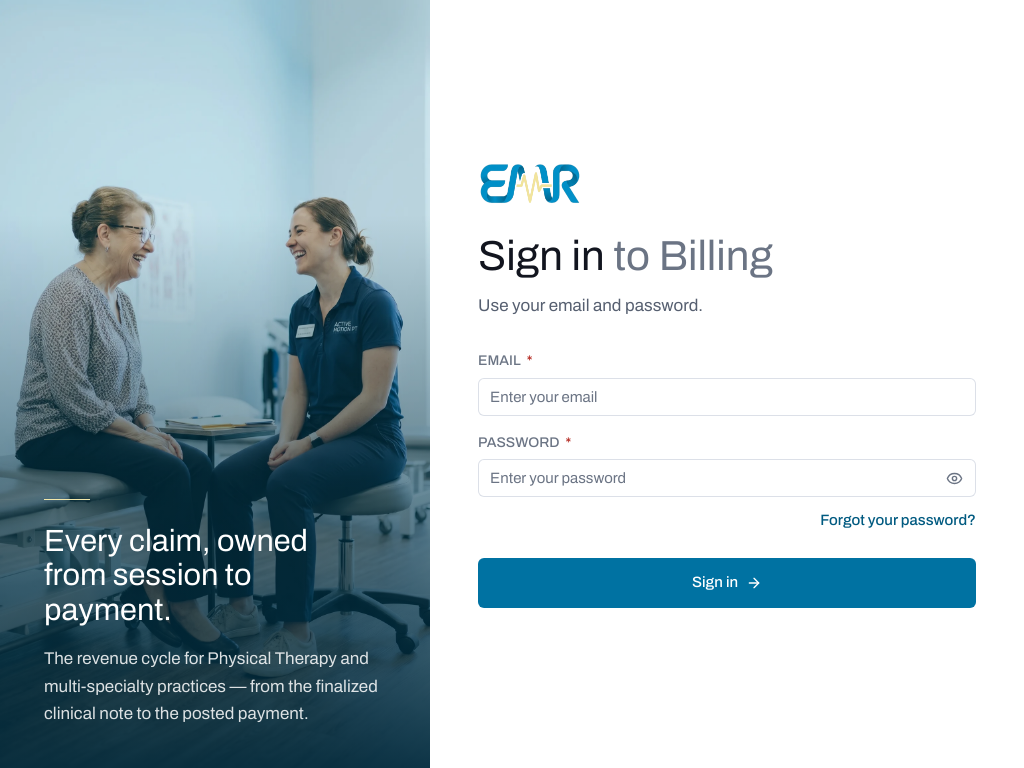
Test: sign-in page › says the credentials are wrong without saying which one, and clears only the password
Check: the heading "Sign in to Billing" is shown, box 478,233 -> 773,279
Type "d.whitfield@example.test" into the field labelled "Email *" at (727, 397), box 490,378 -> 964,416
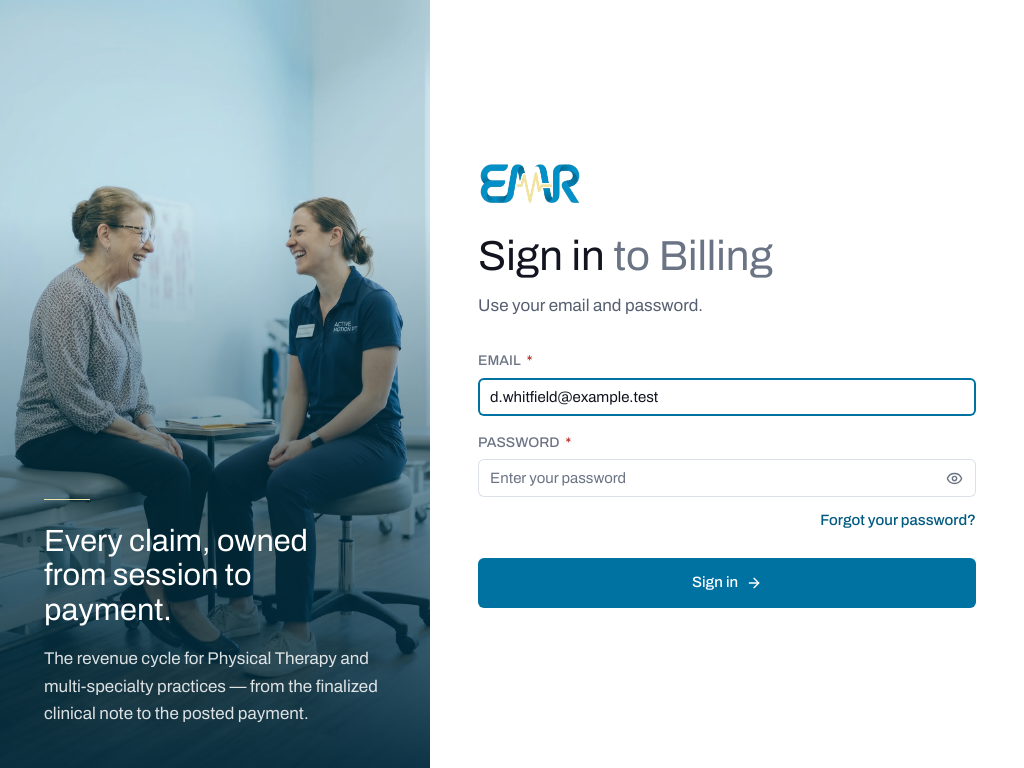
Type "wrong" into the password field labelled "Password *" at (709, 478), box 490,459 -> 928,497
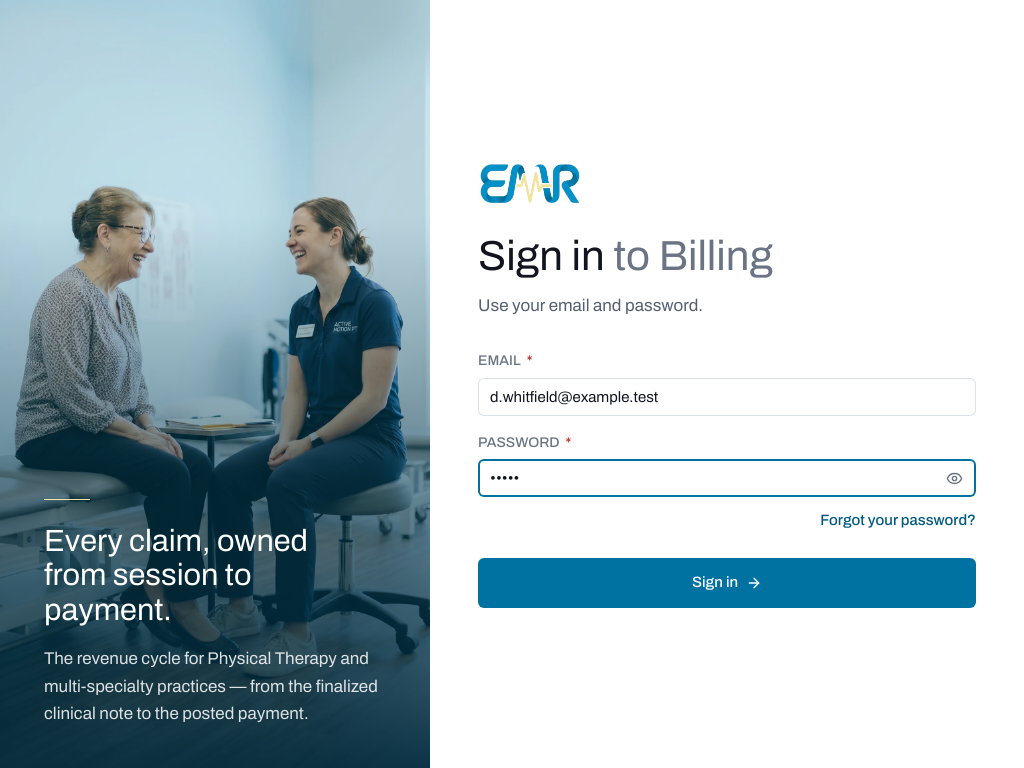
Click the button "Sign in" at (727, 583), box 478,558 -> 976,608
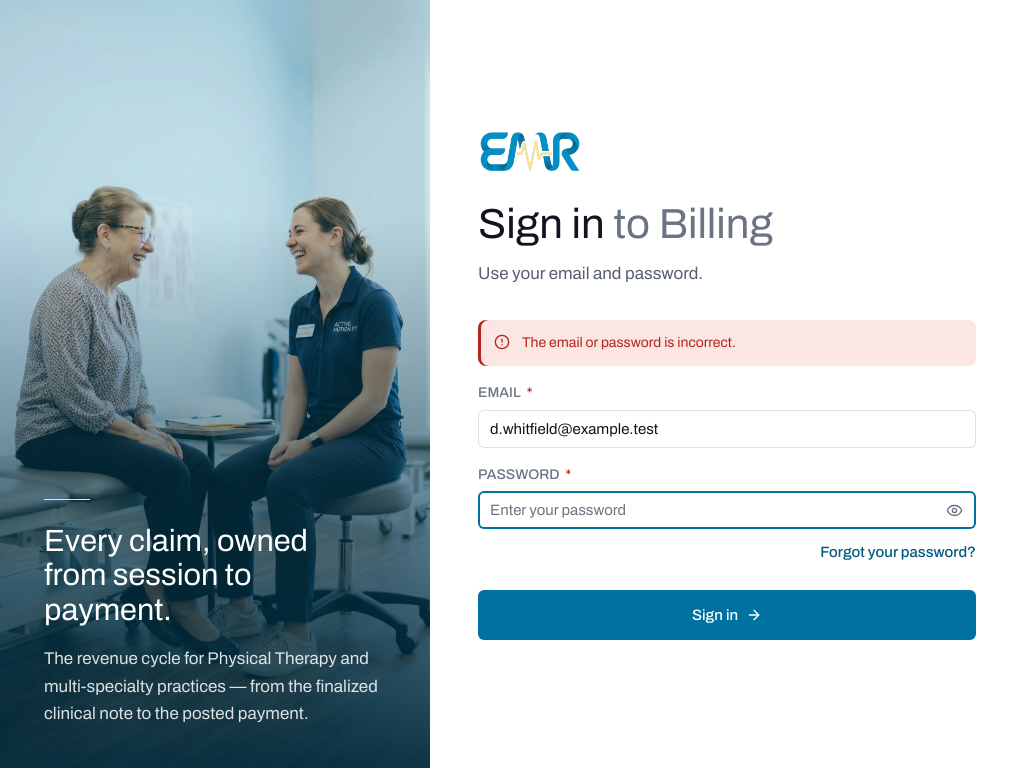
Check: the message reads "The email or password is incorrect.", box 522,335 -> 736,350
Check: the password field labelled "Password *" is empty, box 490,492 -> 928,530
